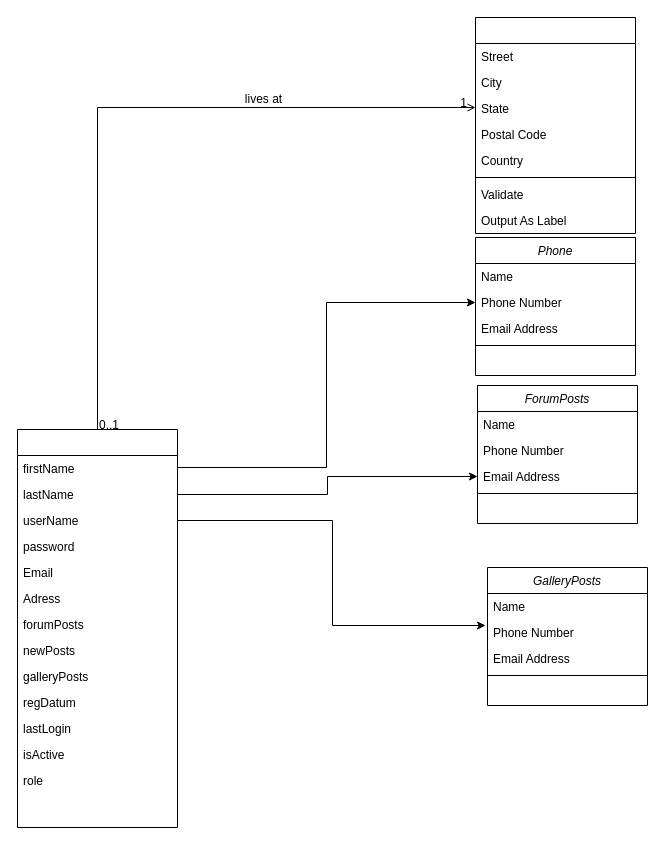
The diagram is 665 pixels wide and 845 high, and some of its shapes have lost their labels. Here are the shapes that lost their labels. From the top down, the box of each, then its label:
(474, 16, 636, 234): Address
(16, 428, 178, 828): Person
